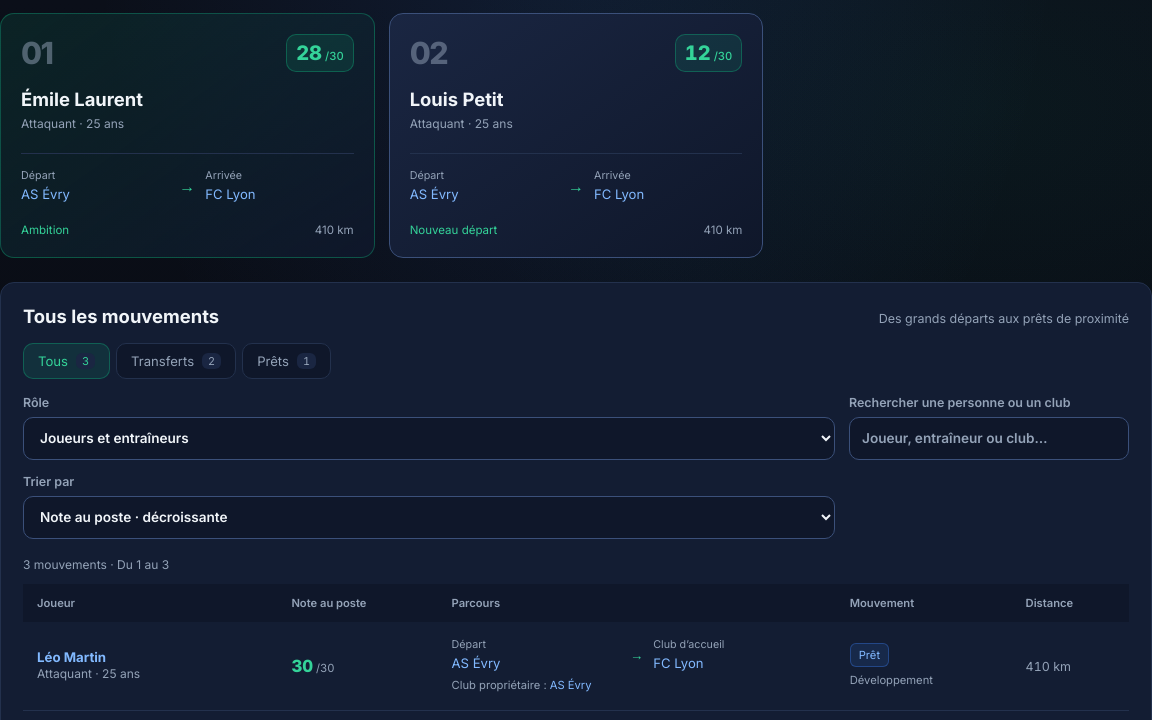
Test case: TransfersPage › combines the loan filter with an accent-insensitive player or club search
The width and height of the screenshot is (1152, 720).
(page scrolled)
Click the button "Prêts 1". click: [287, 361]
box: x1=242 y1=343 x2=331 y2=379
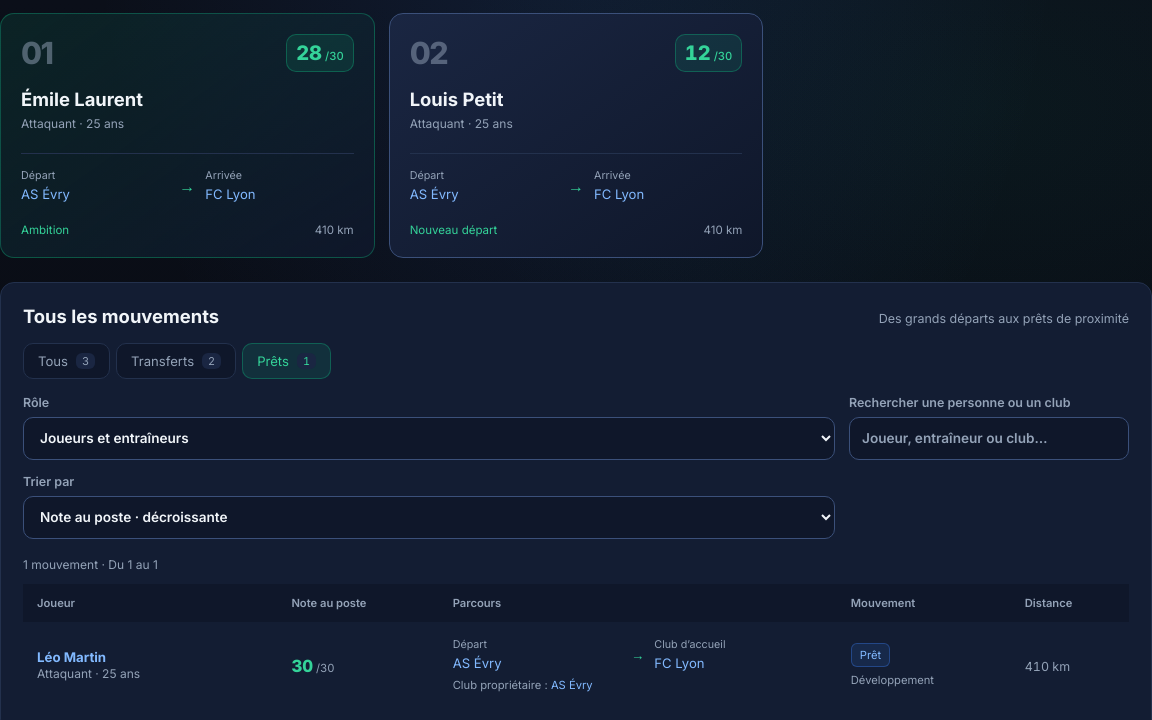
Now the button "Prêts 1" is pressed, box x1=242 y1=343 x2=331 y2=379
Type "evry" into the search field labelled "Rechercher une personne ou un club". click: [989, 438]
box: x1=849 y1=417 x2=1129 y2=460
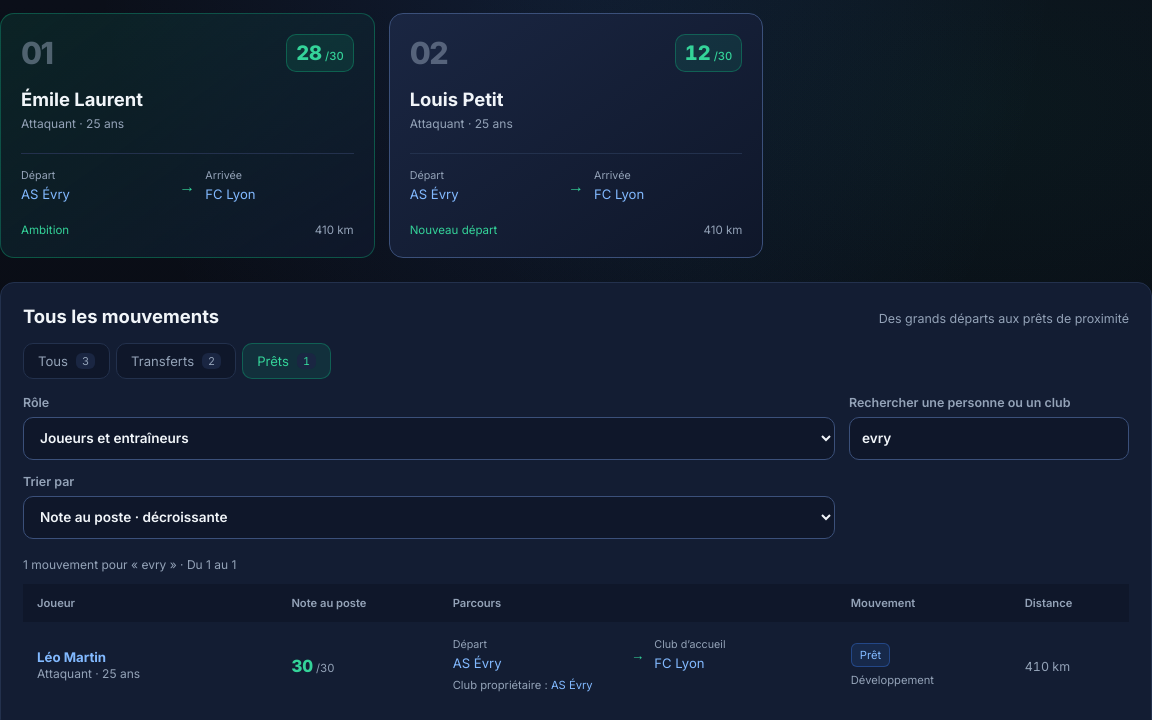
Expected: the link "Léo Martin" is shown, x1=37 y1=649 x2=106 y2=665
Expected: the text "Club propriétaire : AS Évry" is shown, x1=453 y1=678 x2=593 y2=692
Replace the text in the search field labelled "Rechercher une personne ou un club" with "leo". click: [989, 438]
box: x1=849 y1=417 x2=1129 y2=460
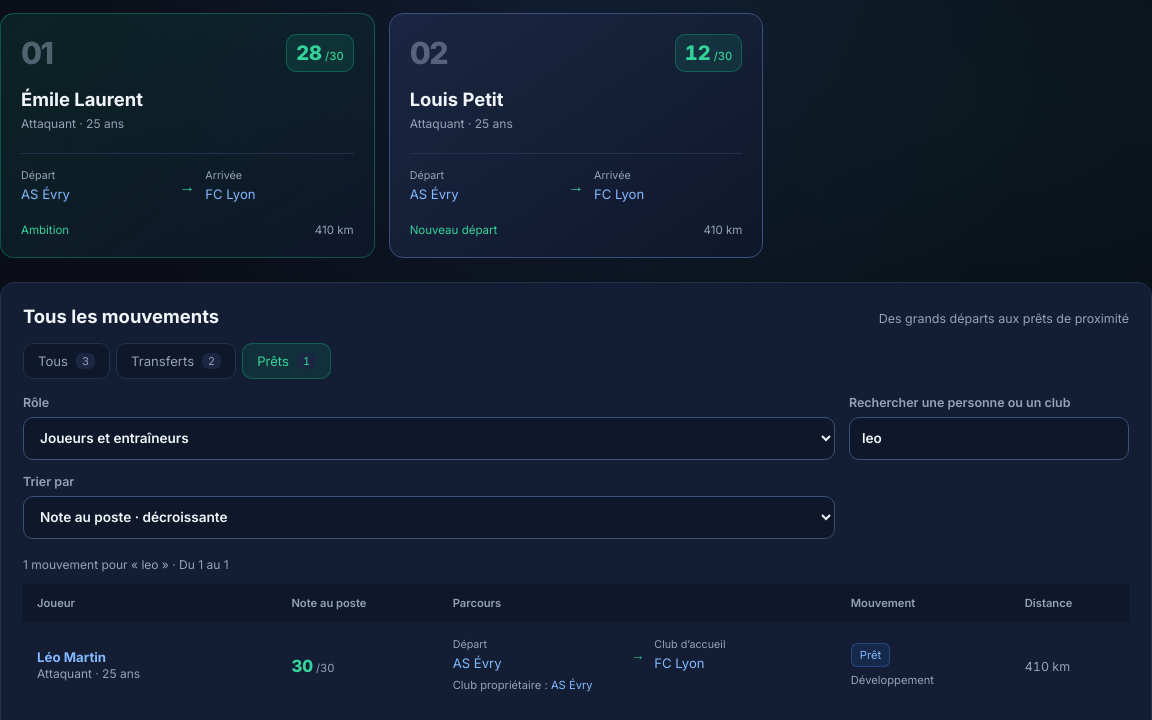
Expected: the link "Léo Martin" is shown, x1=37 y1=649 x2=106 y2=665
Replace the text in the search field labelled "Rechercher une personne ou un club" with "introuvable". click: [989, 438]
box: x1=849 y1=417 x2=1129 y2=460
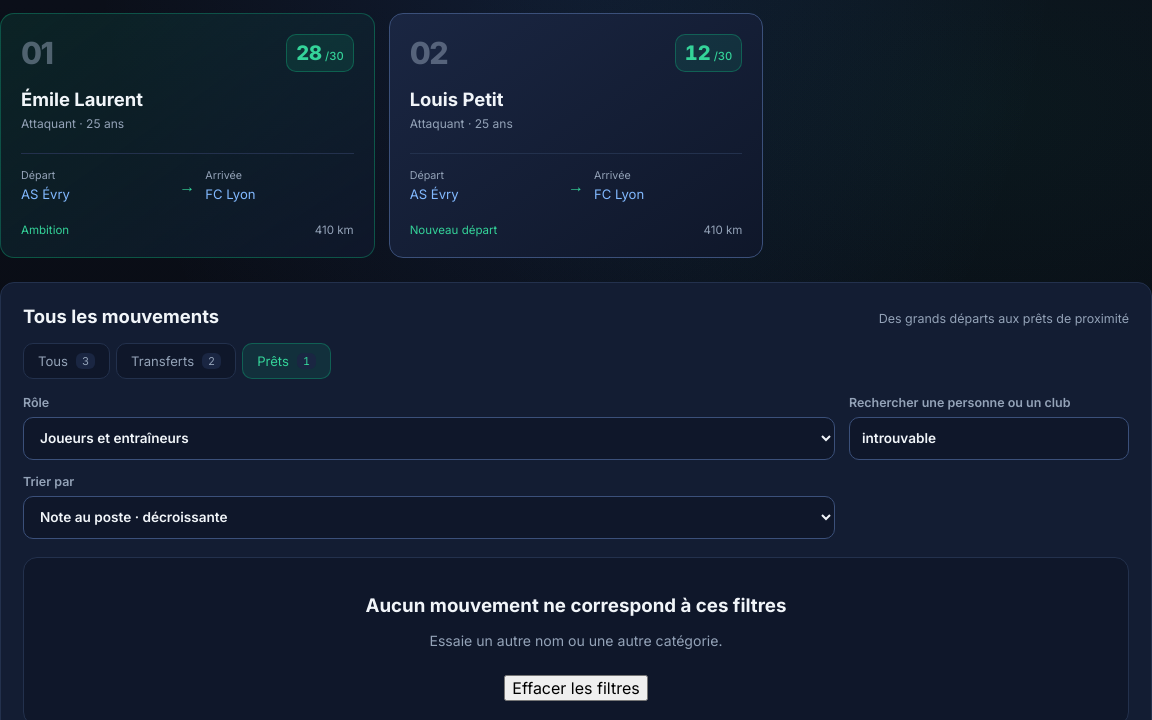
Now the heading "Aucun mouvement ne correspond à ces filtres" is shown, box x1=366 y1=594 x2=786 y2=617
